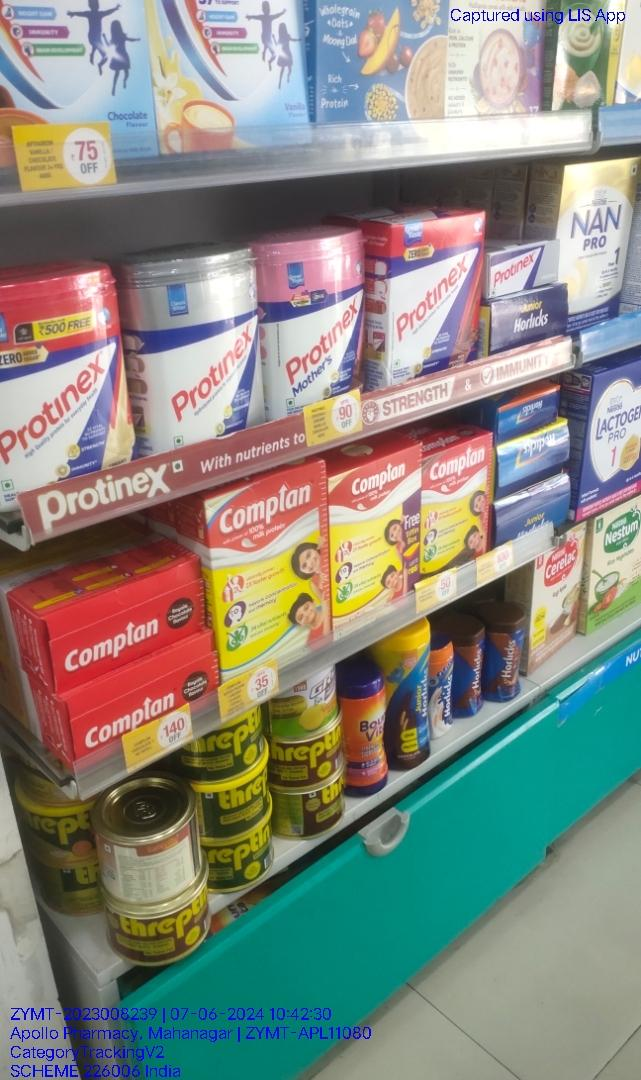COMPLAN_CREAMY_CLASSIC_500_G_PACK: (221, 479, 328, 690)
COMPLAN_KESAR_BADAM_500_GMS_PACK: (331, 468, 419, 631)
PROTINEX_ORIGINAL_400_G_JAR: (140, 250, 267, 453)
PROTINEX_VANILLA_400_G_JAR: (0, 275, 127, 496)
